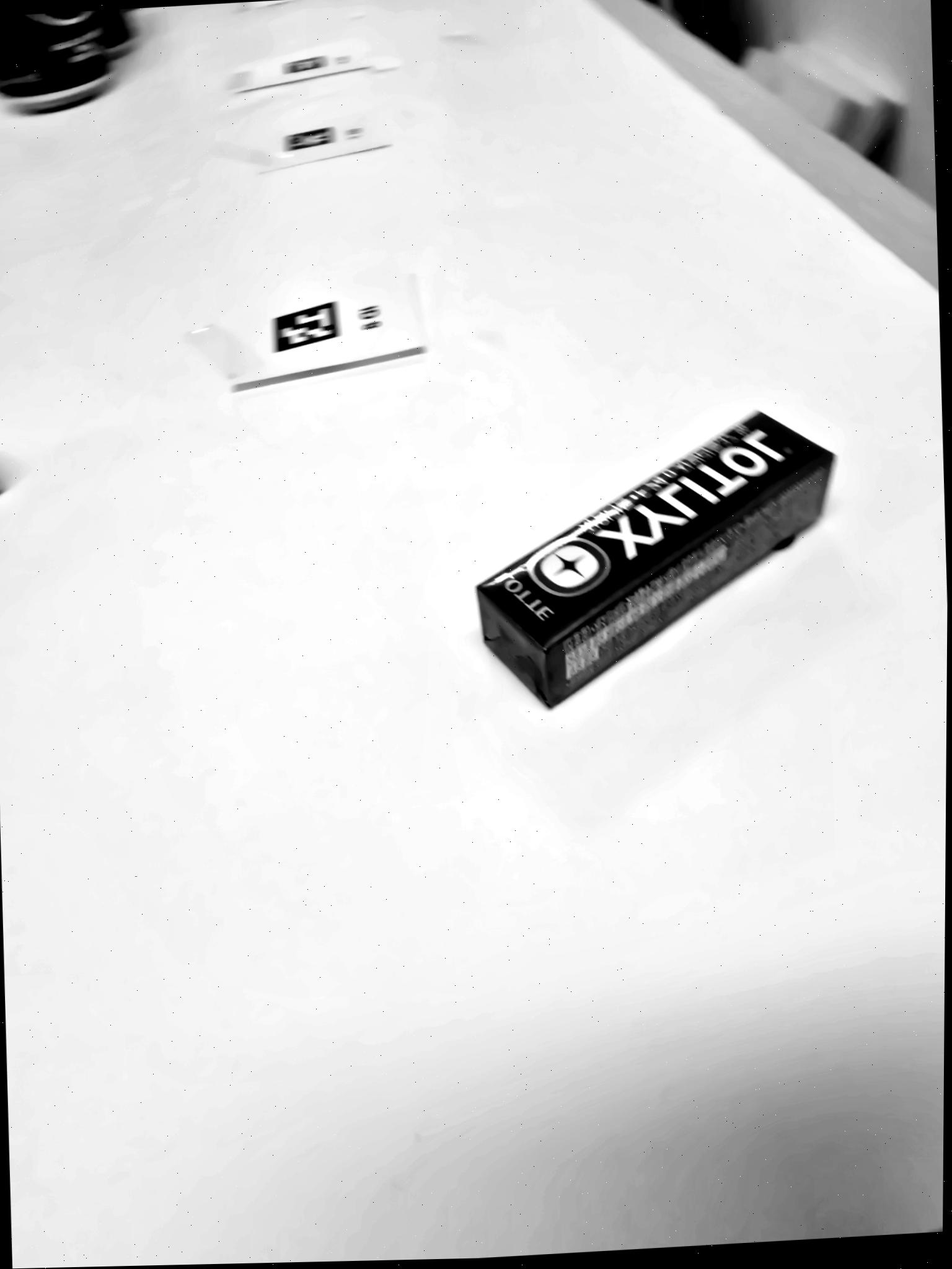gum_green: (478, 411, 834, 706)
